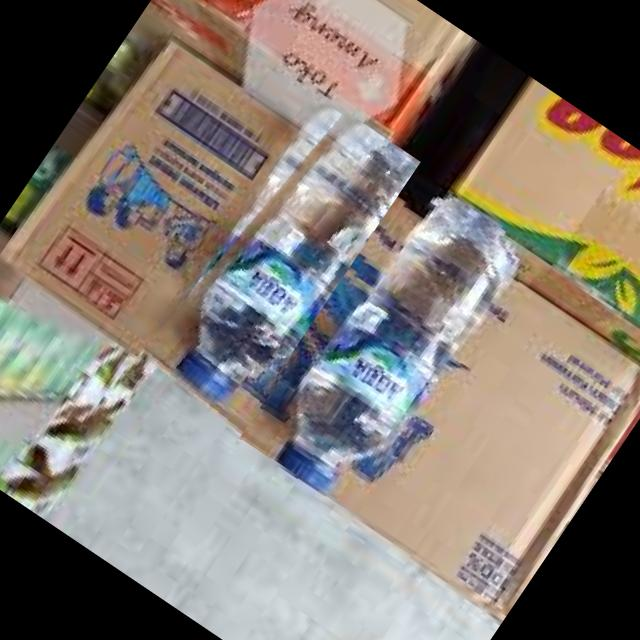plastic bottle: (226, 182, 538, 540), (117, 89, 420, 452)
